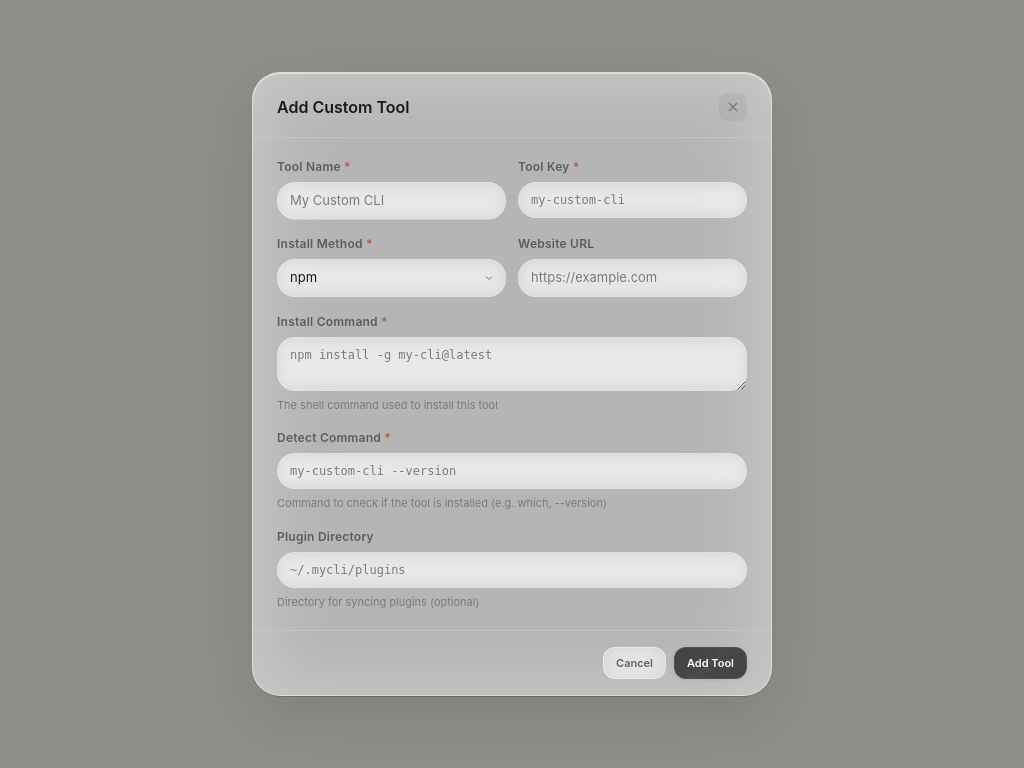
Test: CustomToolDialog › auto-generates detect command from key
The width and height of the screenshot is (1024, 768).
# Enter name to auto-generate key
Type "foo" into the field with placeholder "My Custom CLI".
click(392, 201); type("foo")  # box [277,182,506,219]
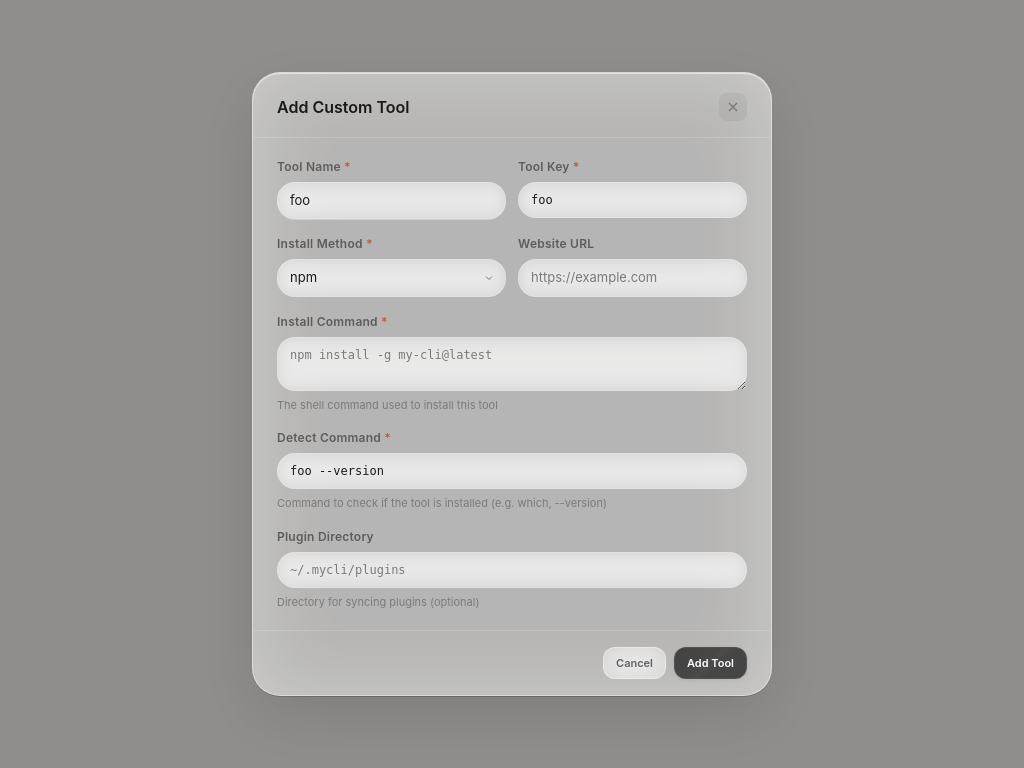
expect the field below "Tool Key" holds "foo": met, box [518,182,747,218]
expect the field below "Detect Command" holds "foo --version": met, box [277,453,747,489]
